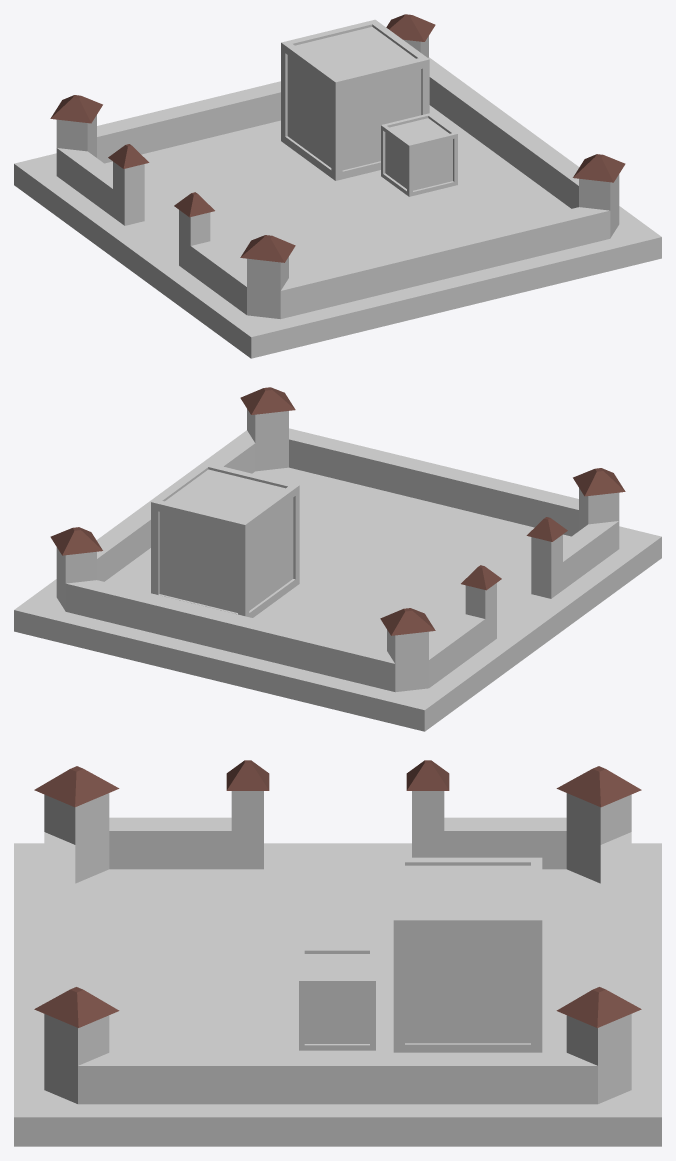
3 renders of one model, top to bottom at view 1: azimuth 30°, elevation 25°; view 2: azimuth 150°, elevation 25°; view 3: azimuth 270°, elevation 25°, orthographic. The views are drawn at different scales.
Visible parts, largest first — view 1: 1x1A; view 2: 1x1A; view 3: 1x1A.
Boxes of the visible parts, x1=… form: 1x1A: x1=14, y1=14, x2=661, y2=358; 1x1A: x1=14, y1=387, x2=661, y2=731; 1x1A: x1=14, y1=760, x2=661, y2=1146.
Bounding box in the file's own units: 1 × 0.2794 × 1.
